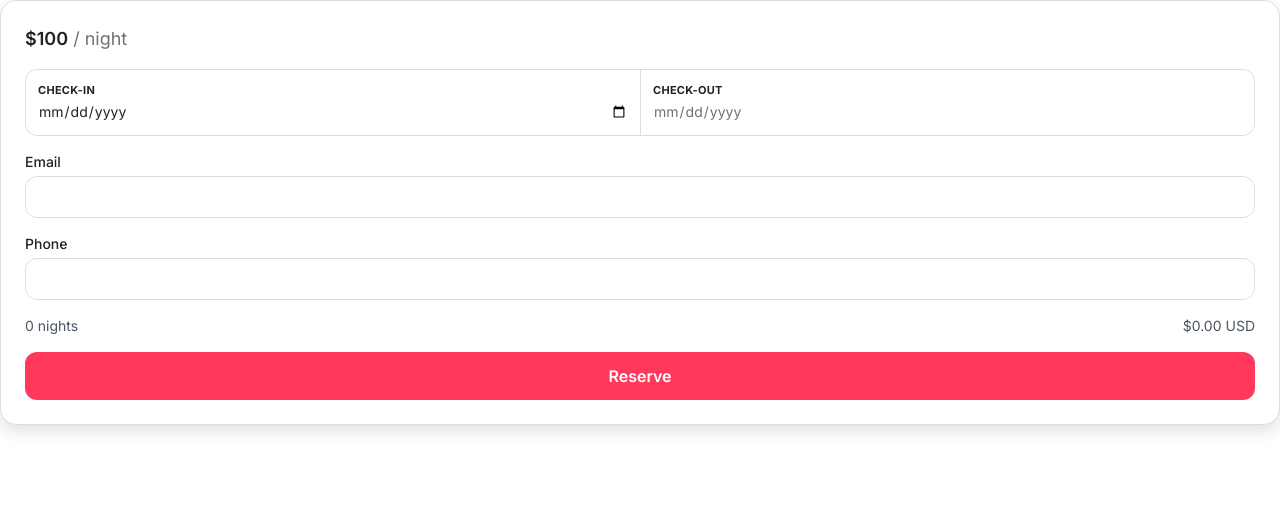
it: BookingForm › confirms a booking created without payment
Type "2030-01-01" into the date field named "Check-in" at (333,112), box [38,100,628,122]
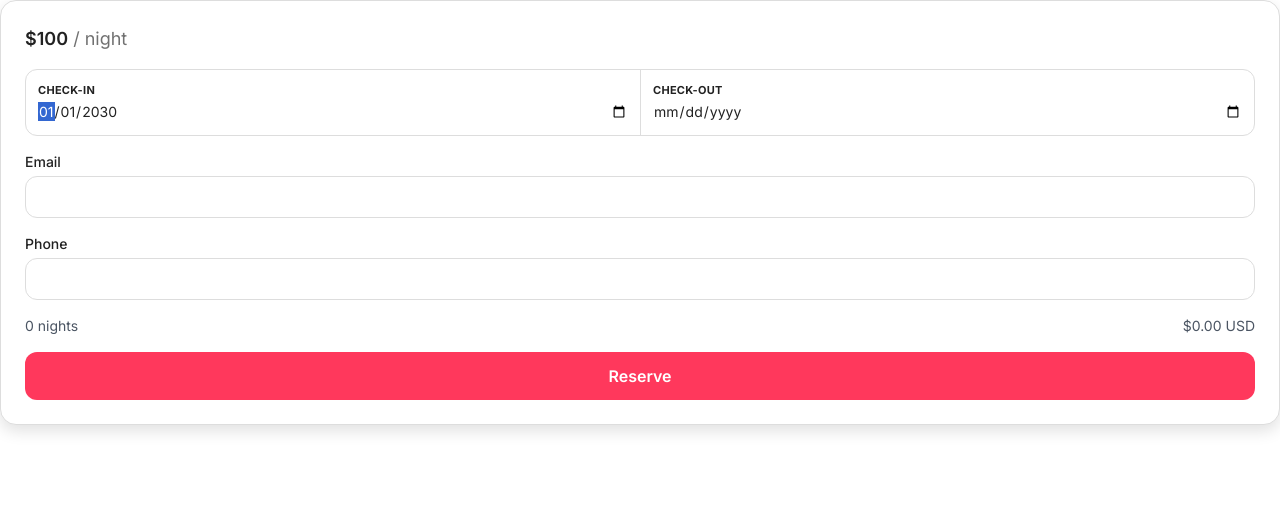
Type "2030-01-03" into the date field named "Check-out" at (948,112), box [653,100,1242,122]
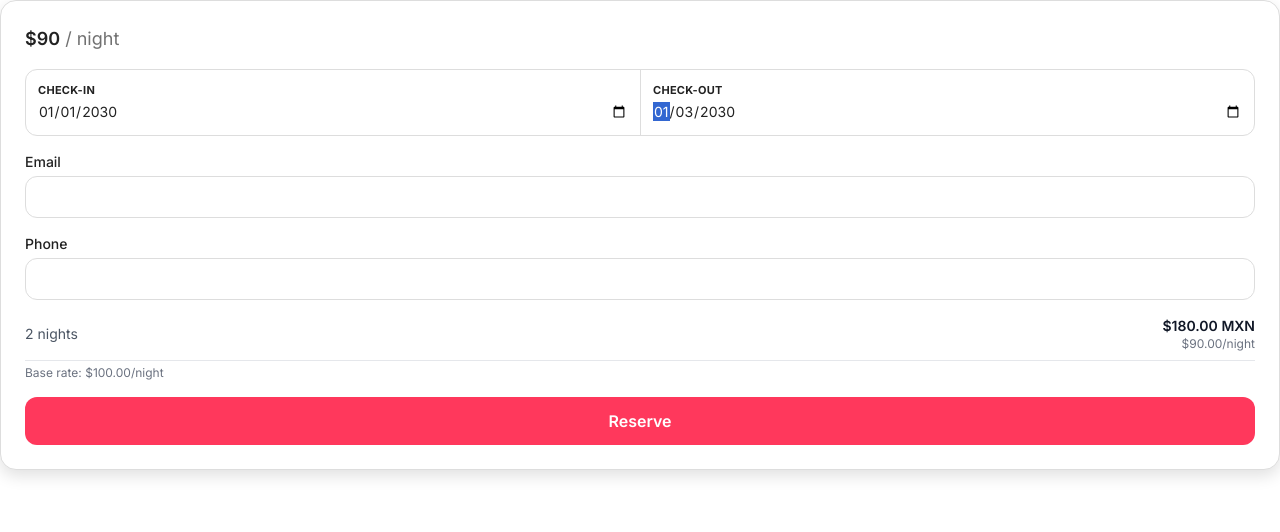
Type "guest@example.com" into the field named "Email" at (640,196), box [25,176,1255,218]
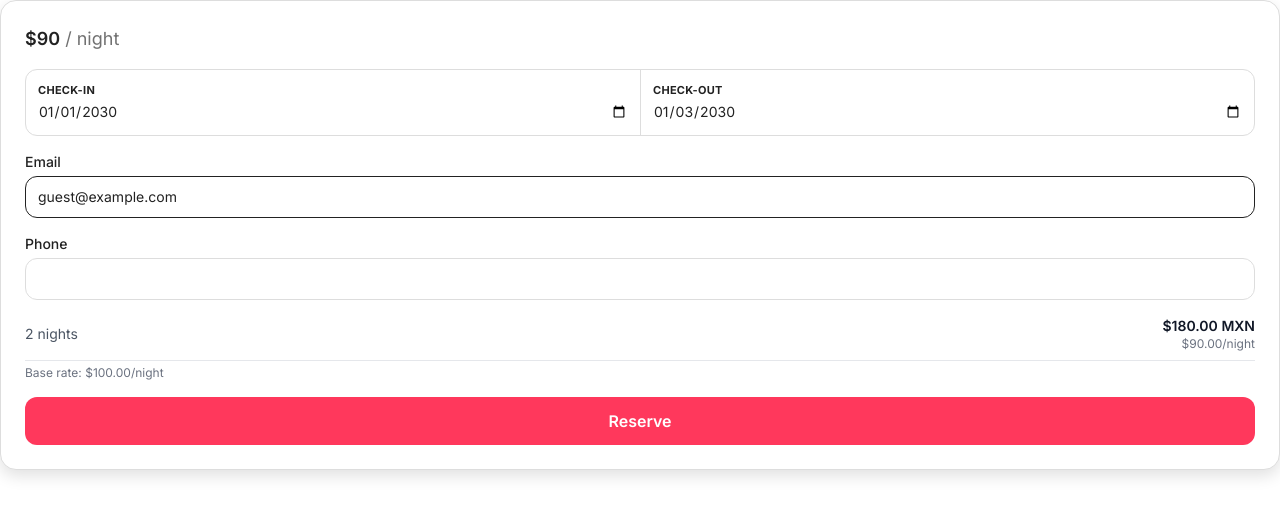
Type "5215551234" into the field named "Phone" at (640,278), box [25,258,1255,300]
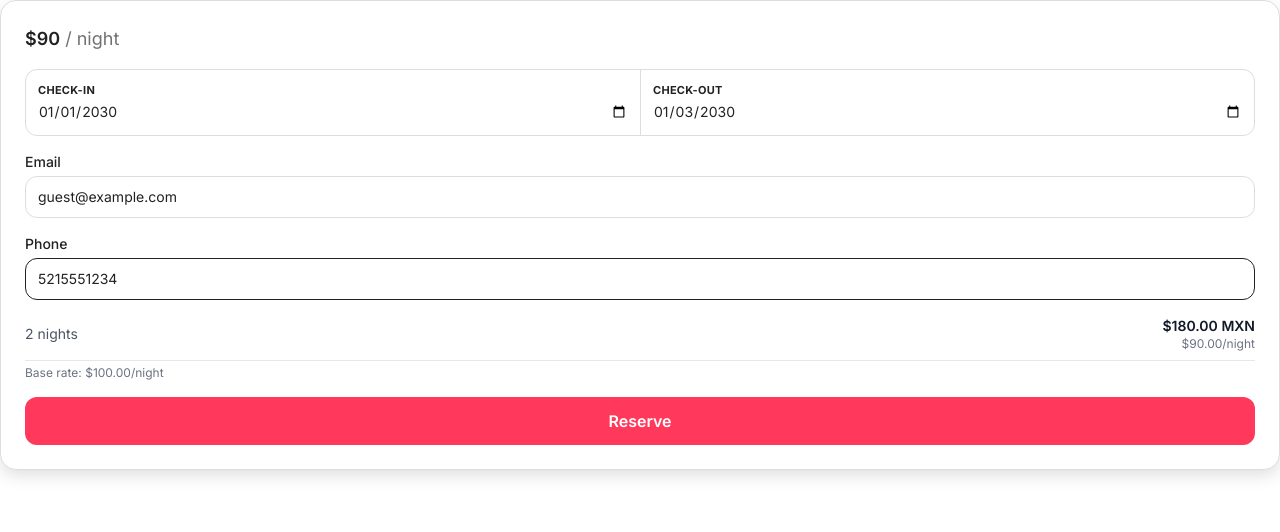
Click the button "Reserve" at (640,420), box [25,396,1255,444]
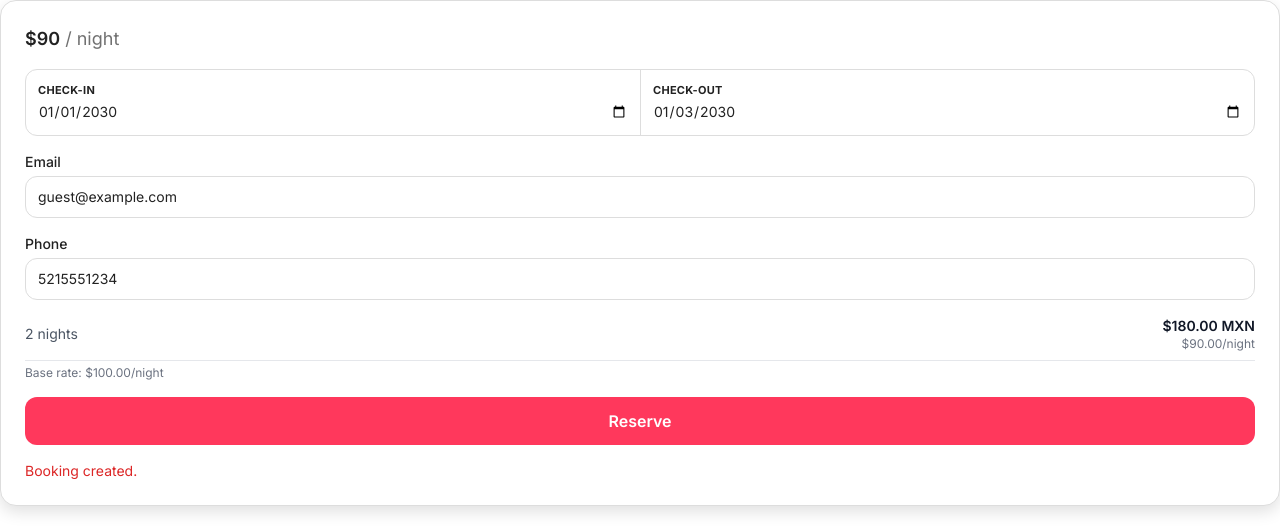
Expected: the text "Booking created." is shown, [25,462,137,478]
